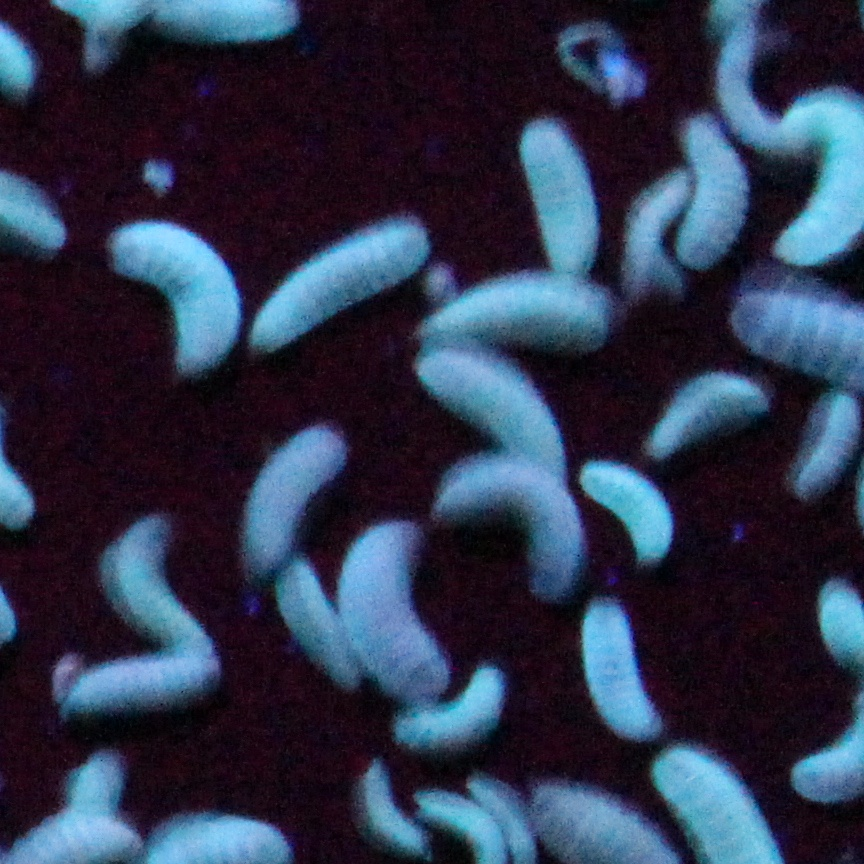larve: (248, 215, 432, 352), (417, 342, 577, 479), (430, 462, 586, 602), (107, 215, 238, 377), (344, 521, 455, 692), (98, 506, 217, 656), (246, 421, 348, 581), (417, 277, 615, 350), (705, 29, 815, 156), (519, 115, 605, 277), (575, 592, 665, 740), (273, 560, 365, 694), (580, 456, 677, 565), (680, 117, 746, 273), (646, 377, 769, 460), (623, 165, 696, 300), (388, 671, 511, 750), (55, 656, 230, 710), (357, 760, 432, 854), (788, 398, 857, 498)
